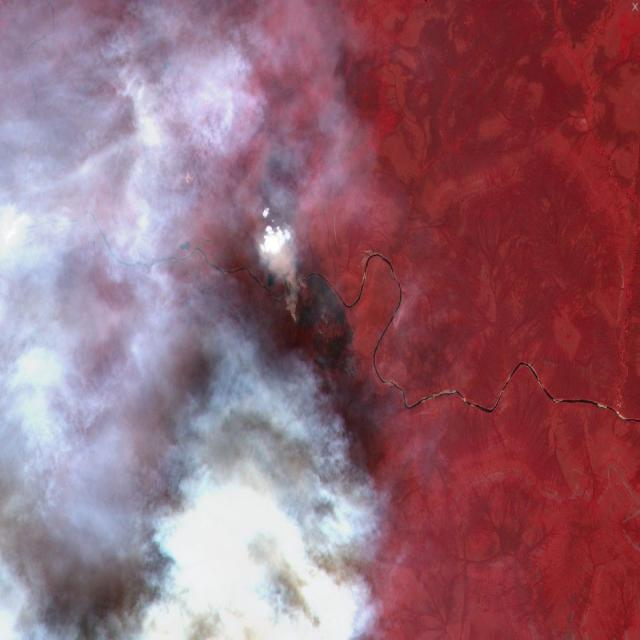fire: (286, 274, 359, 374)
